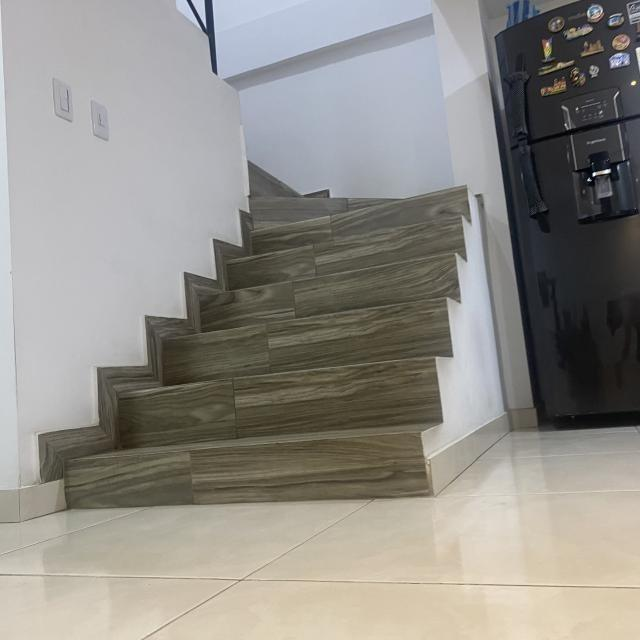stair: (26, 151, 528, 528)
